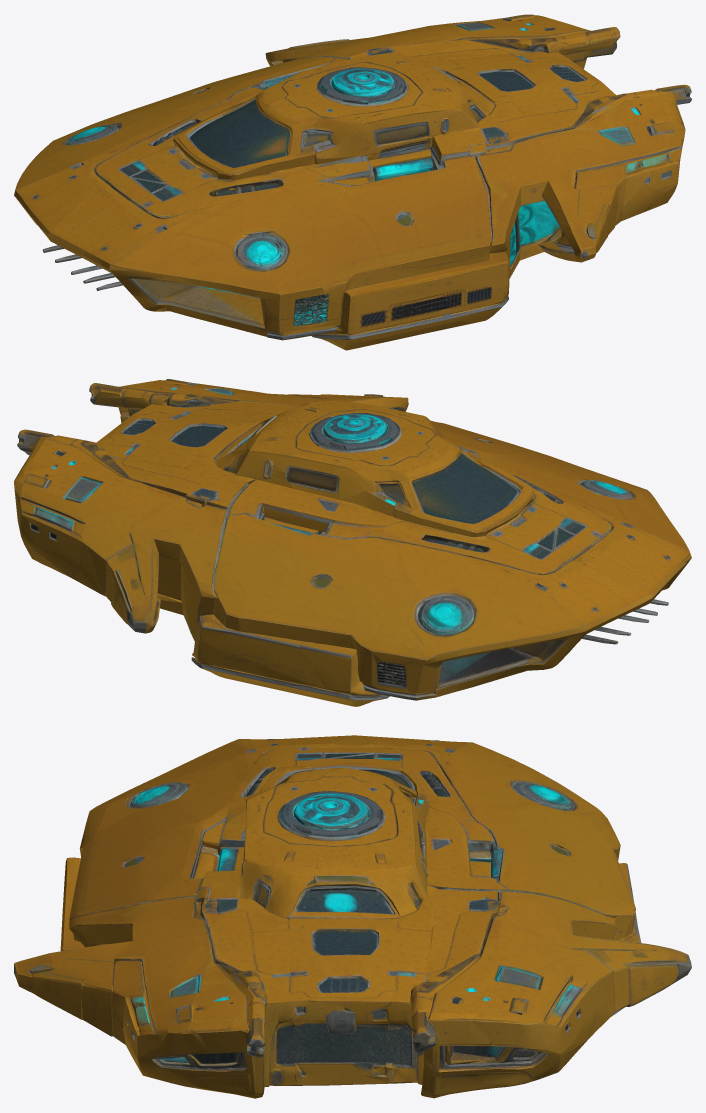
File: relativistic_reinforced_hull.glb
3 views of the same model, one above another, from view 1: azimuth 30°, elevation 25°; view 2: azimuth 150°, elevation 25°; view 3: azimuth 270°, elevation 25° (orthographic). The views are drawn at different scales.
Bounding box in the file's own units: 1.9 × 0.5427 × 1.59.
1 material, 1 textured.
